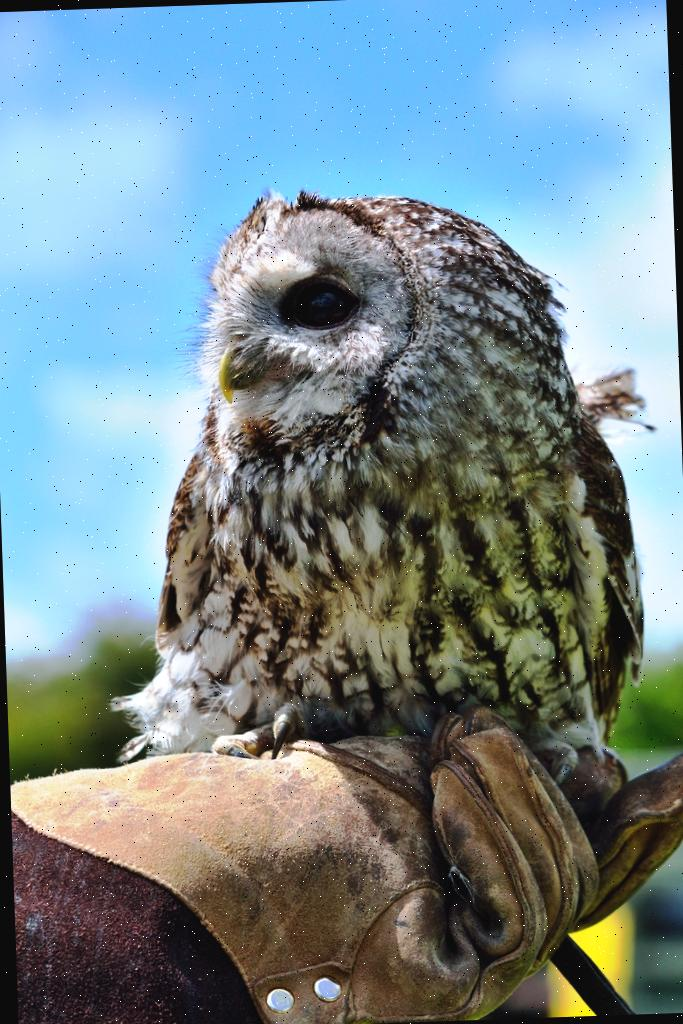Owl: (89, 174, 669, 796)
